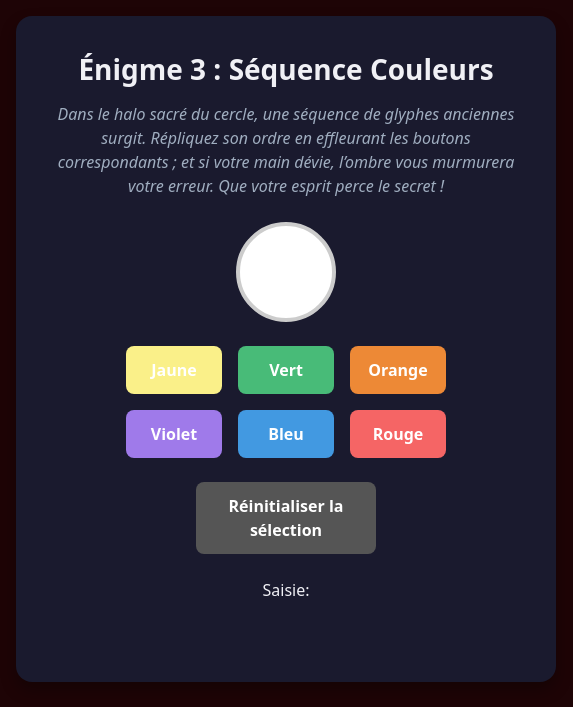
ColorButton › affiche un message d’erreur si mauvaise séquence
Click the button "Rouge" at (398, 434), box x1=350 y1=410 x2=446 y2=458
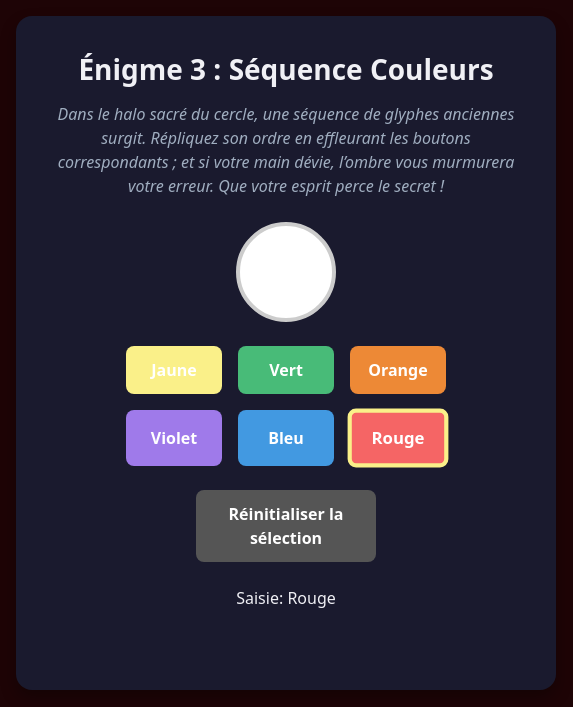
Click the button "Bleu" at (286, 438), box x1=238 y1=410 x2=334 y2=466
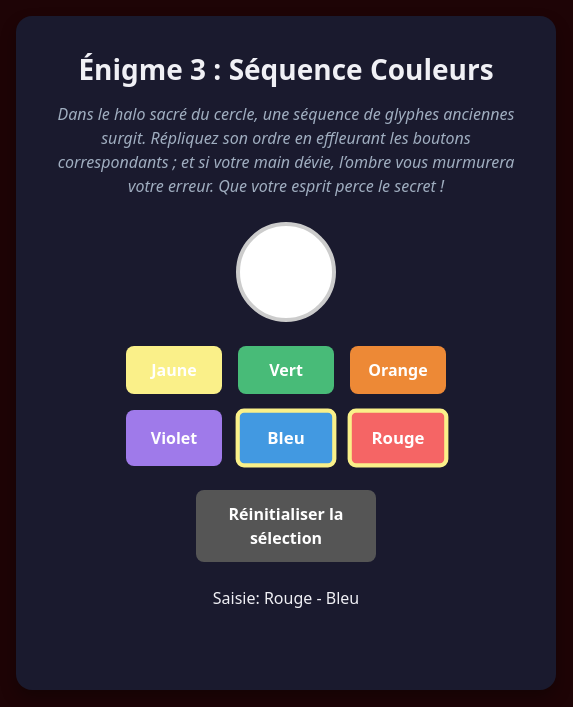
Click the button "Violet" at (174, 438), box x1=126 y1=410 x2=222 y2=466
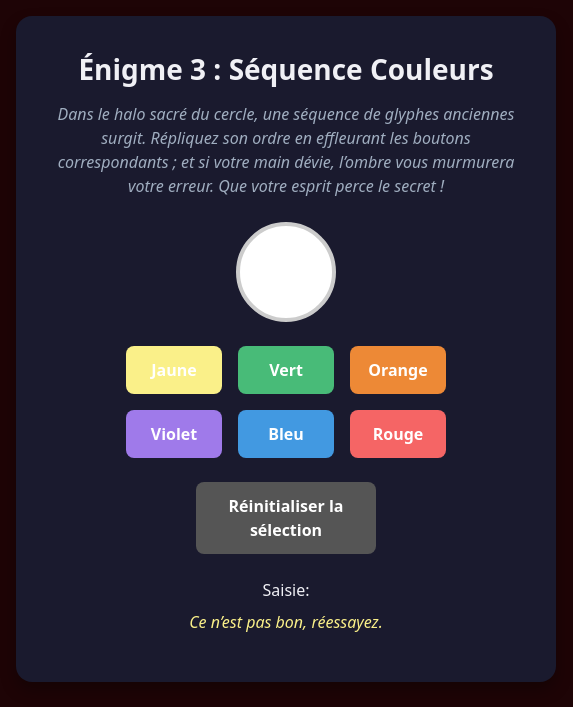
Expected: the text "Ce n’est pas bon, réessayez." is shown, x1=189 y1=611 x2=383 y2=633
